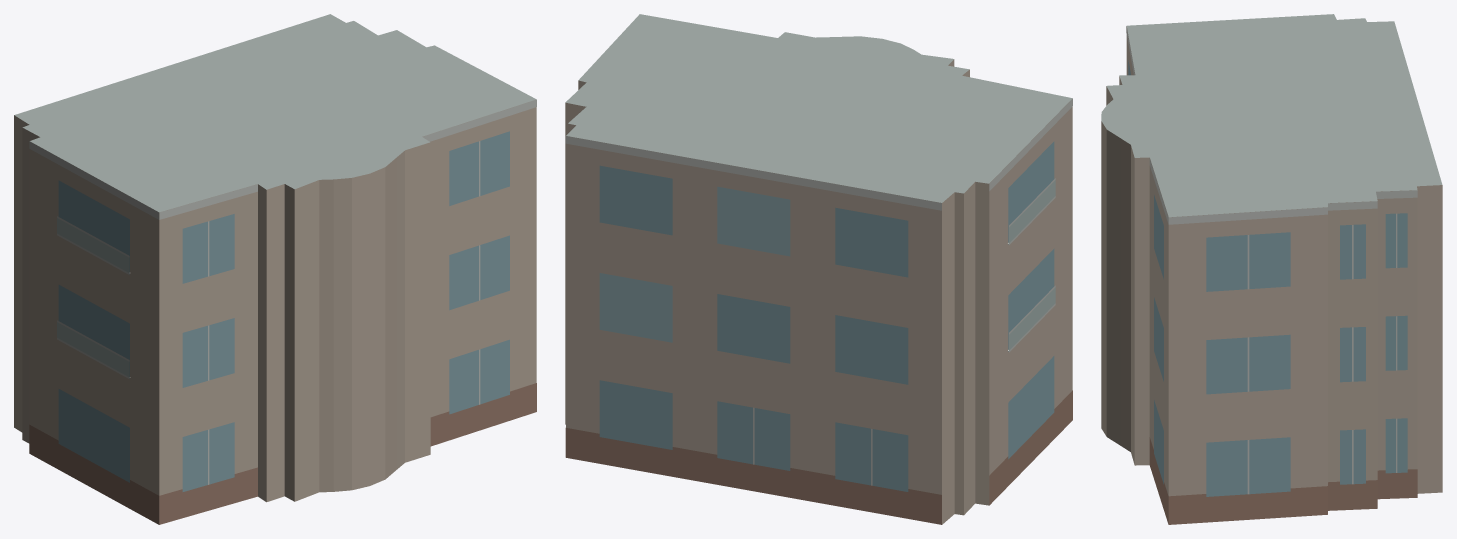
File: survey-upis-32695222.glb
3 renders of one model, left to right at view 1: azimuth 30°, elevation 25°; view 2: azimuth 150°, elevation 25°; view 3: azimuth 270°, elevation 25°, orthographic. The views are drawn at different scales.
Parts seen in each view (by area): view 1: survey-upis-32695222.tmp; view 2: survey-upis-32695222.tmp; view 3: survey-upis-32695222.tmp.
Part boxes in pixels (x1,y1,x2,y2): survey-upis-32695222.tmp: (14,14,536,524); survey-upis-32695222.tmp: (565,14,1072,524); survey-upis-32695222.tmp: (1101,14,1442,524).
Bounding box in the file's own units: 14.21 × 10.02 × 10.08.
